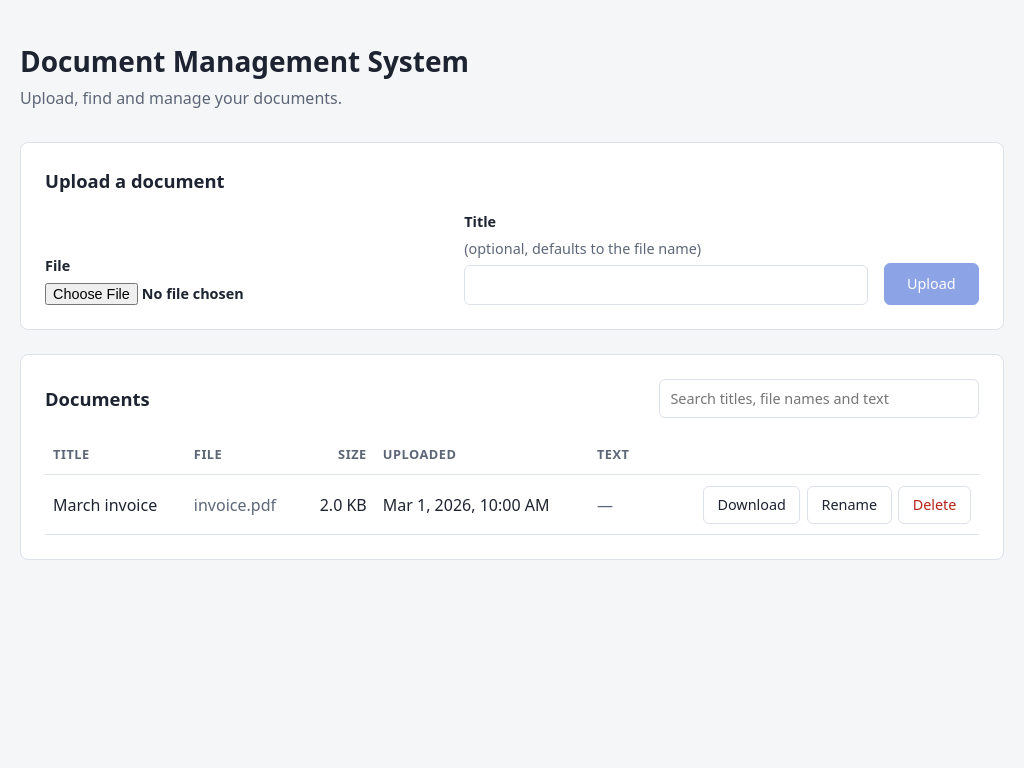
Test: App › deletes a document after confirmation
What coordinates should you click on to do the following:
click the button with aria-label "Delete March invoice"
I would click on:
 (934, 504)
Its box is [898,486,971,524].
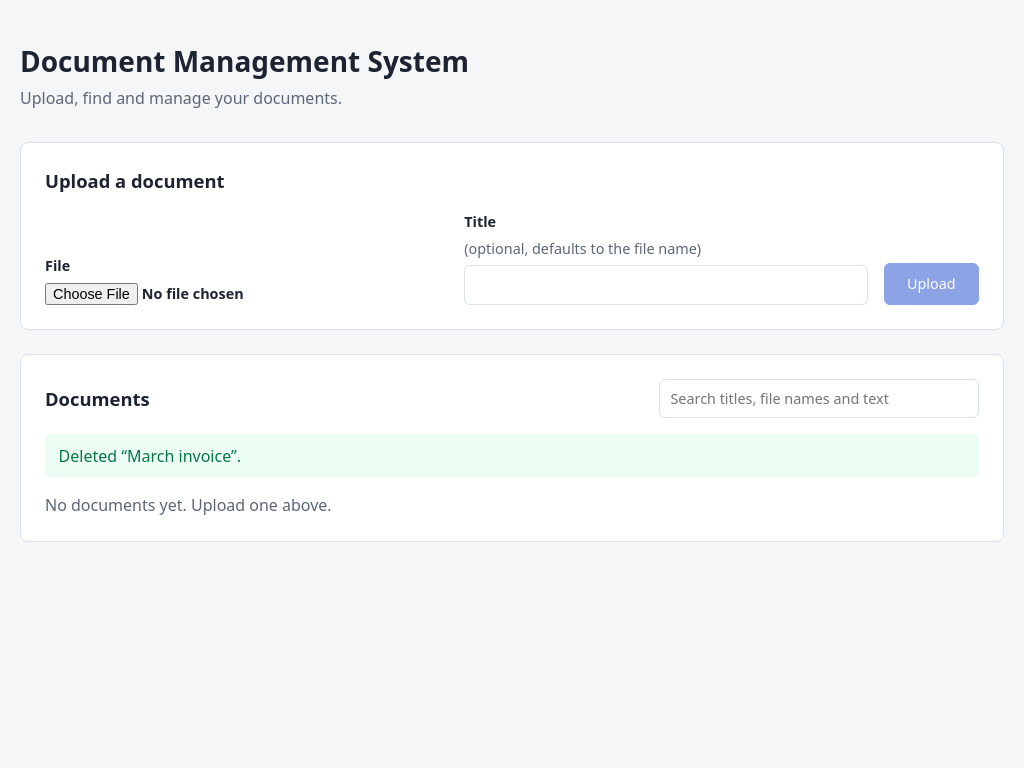
Now the message reads "Deleted “March invoice”.", box [59,445,241,467]
Now the text "invoice.pdf" is gone
